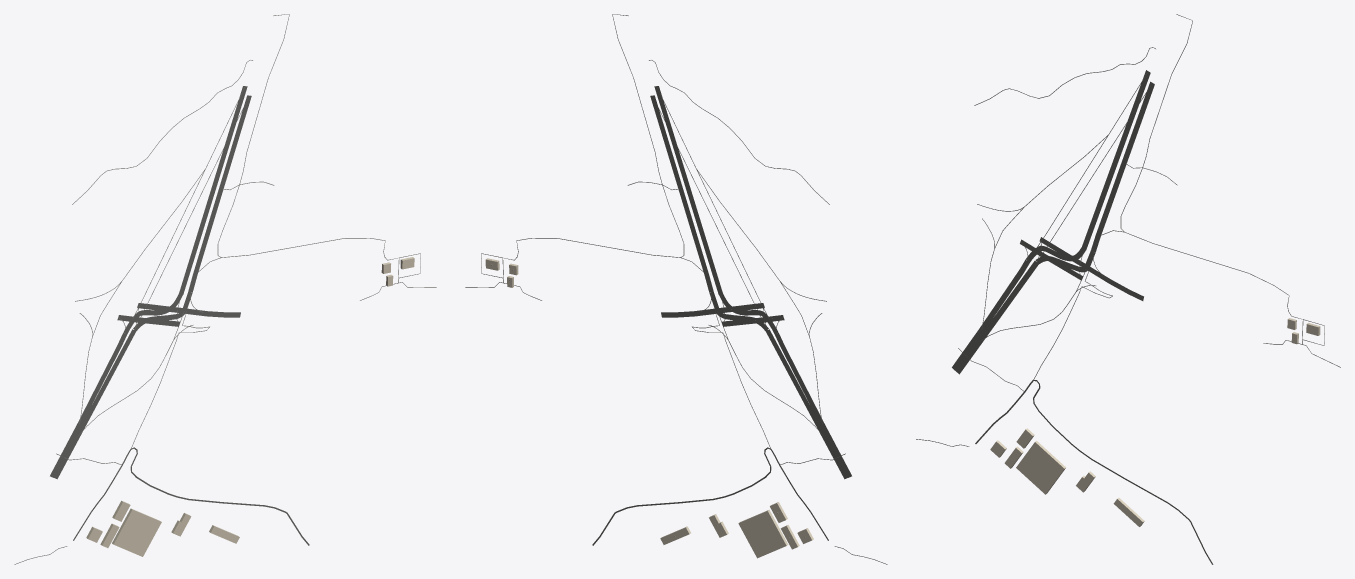
The model's file is historic-palestine-07_30_3491_3246.glb.
3 renders of one model, left to right at view 1: azimuth 30°, elevation 25°; view 2: azimuth 150°, elevation 25°; view 3: azimuth 330°, elevation 25°, orthographic.
Visible parts, largest first — view 1: Building_.004, Road כביש חיפה רעננה.003, Road כביש חיפה רעננה, Road כביש חיפה רעננה.010, Road כביש חיפה רעננה.011, Road .026; view 2: Building_.004, Road כביש חיפה רעננה.003, Road כביש חיפה רעננה, Road כביש חיפה רעננה.010, Road כביש חיפה רעננה.011, Road .026; view 3: Building_.004, Road כביש חיפה רעננה.003, Road כביש חיפה רעננה, Road כביש חיפה רעננה.010, Road כביש חיפה רעננה.011, Road .026.
Part boxes in pixels (x1,y1,x2,y2): Building_.004: (112,508,161,556); Road כביש חיפה רעננה.003: (169,86,247,310); Road כביש חיפה רעננה: (188,95,251,292); Road כביש חיפה רעננה.010: (68,329,135,452); Road כביש חיפה רעננה.011: (64,333,127,450); Road .026: (117,447,309,545); Building_.004: (738,509,788,558); Road כביש חיפה רעננה.003: (654,86,731,307); Road כביש חיפה רעננה: (650,95,713,292); Road כביש חיפה רעננה.010: (766,329,834,452); Road כביש חיפה רעננה.011: (774,333,837,450); Road .026: (592,447,784,545); Building_.004: (1016,440,1065,494); Road כביש חיפה רעננה.003: (1072,70,1150,260); Road כביש חיפה רעננה: (1091,81,1154,252); Road כביש חיפה רעננה.010: (970,261,1038,354); Road כביש חיפה רעננה.011: (966,259,1029,350); Road .026: (1019,379,1213,564).
Size of the model in its own units: 1036 by 1263 by 8.7.
